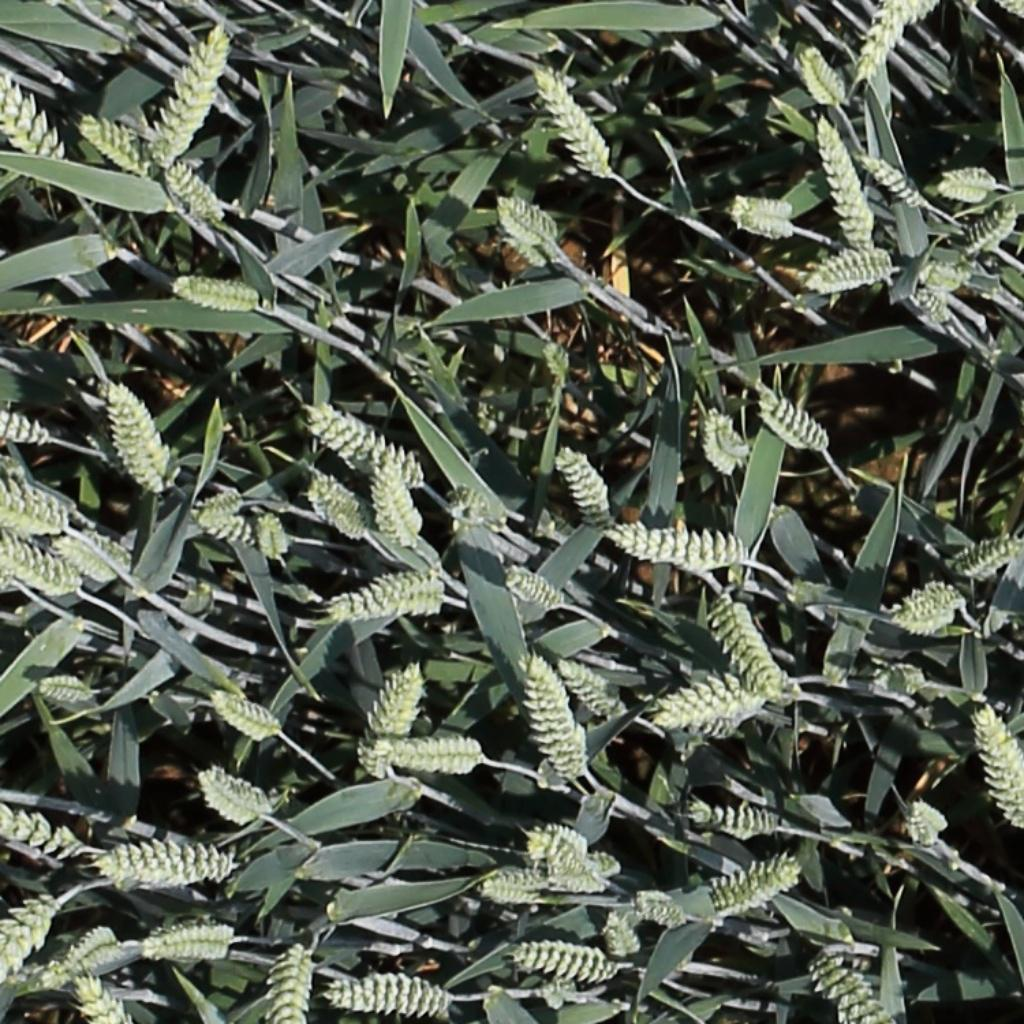0-0: (155, 23, 230, 167), (533, 61, 615, 181), (307, 404, 425, 483), (815, 107, 879, 252), (0, 21, 60, 162), (707, 590, 785, 697), (357, 656, 424, 778), (0, 894, 87, 987), (528, 653, 586, 782), (105, 378, 169, 491), (37, 921, 156, 976), (656, 670, 772, 726), (974, 704, 1024, 830), (138, 909, 249, 961), (494, 192, 567, 271), (856, 0, 916, 88), (611, 529, 746, 567), (791, 247, 901, 293), (80, 110, 155, 177), (557, 445, 614, 533), (334, 587, 455, 628), (0, 790, 73, 856), (877, 586, 971, 637), (757, 390, 832, 453), (809, 955, 884, 1018), (333, 974, 449, 1014), (468, 876, 574, 919), (54, 527, 136, 582), (373, 461, 420, 556), (169, 278, 269, 322), (442, 479, 518, 536), (370, 737, 480, 776), (162, 155, 226, 222), (0, 539, 80, 591), (861, 150, 932, 208), (716, 866, 798, 913), (800, 40, 854, 111), (386, 659, 427, 752), (0, 472, 62, 533), (352, 570, 462, 604), (558, 660, 623, 716), (210, 693, 283, 738), (704, 406, 750, 476), (281, 936, 318, 1022), (199, 774, 262, 824), (516, 946, 619, 976), (962, 200, 1018, 255), (105, 857, 228, 882), (72, 972, 128, 1024), (311, 473, 365, 524), (954, 539, 1021, 578), (688, 806, 780, 834), (914, 278, 960, 333), (527, 826, 590, 866), (506, 567, 566, 608), (602, 905, 641, 966), (189, 509, 253, 546), (551, 856, 617, 891), (875, 663, 931, 703), (539, 333, 576, 391), (0, 400, 49, 442), (731, 203, 798, 233), (906, 801, 944, 850), (259, 507, 287, 570), (634, 895, 689, 927), (921, 260, 970, 295), (36, 682, 95, 701), (196, 490, 244, 513), (583, 852, 627, 876), (936, 177, 998, 193), (0, 443, 24, 479), (1000, 1, 1024, 19), (889, 604, 905, 612)
